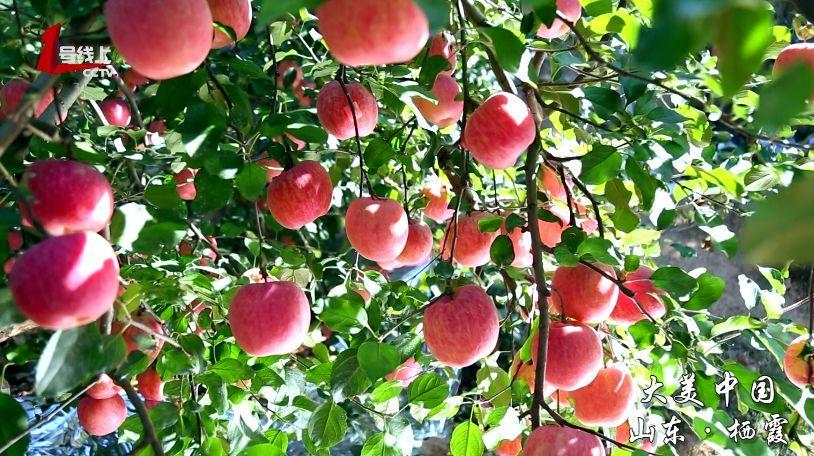apple: (12, 232, 116, 326), (105, 4, 214, 80), (228, 279, 312, 360), (422, 285, 499, 369), (467, 92, 535, 171), (533, 323, 605, 390), (550, 260, 620, 326), (265, 161, 332, 228), (345, 197, 408, 262), (316, 79, 379, 141)
